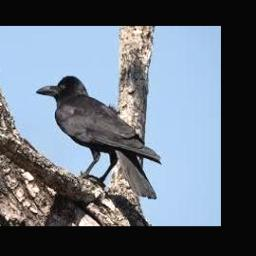Crow: (34, 75, 161, 200)
